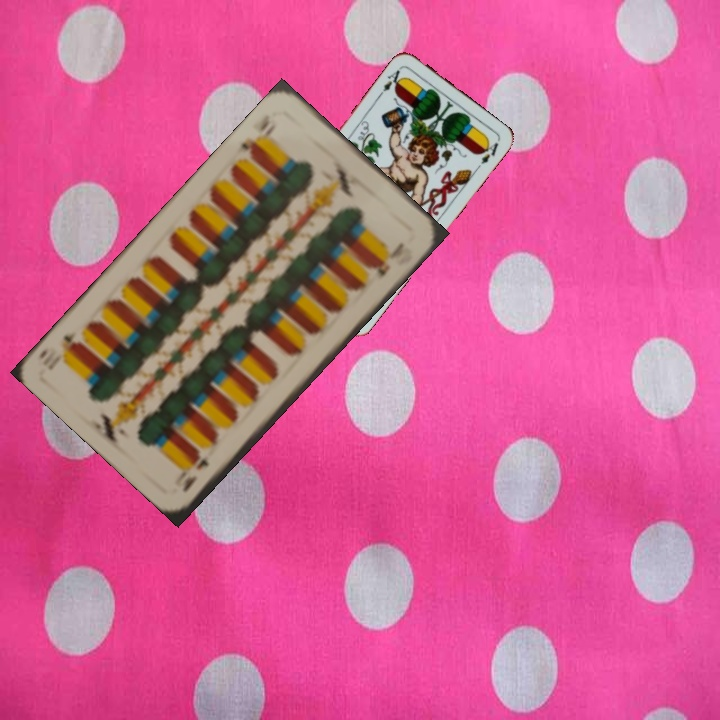E10: (237, 110, 279, 160), (178, 452, 212, 495)
EA: (375, 63, 407, 98)
